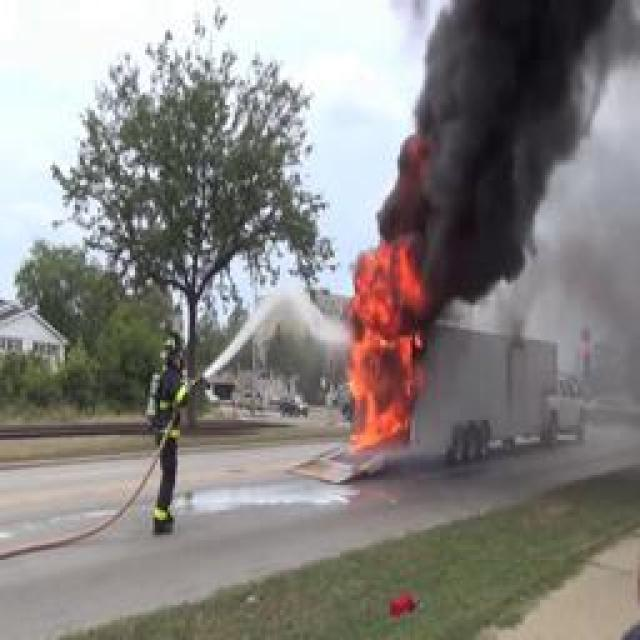Fire: (348, 257, 423, 449)
Smoke: (358, 6, 572, 278)
